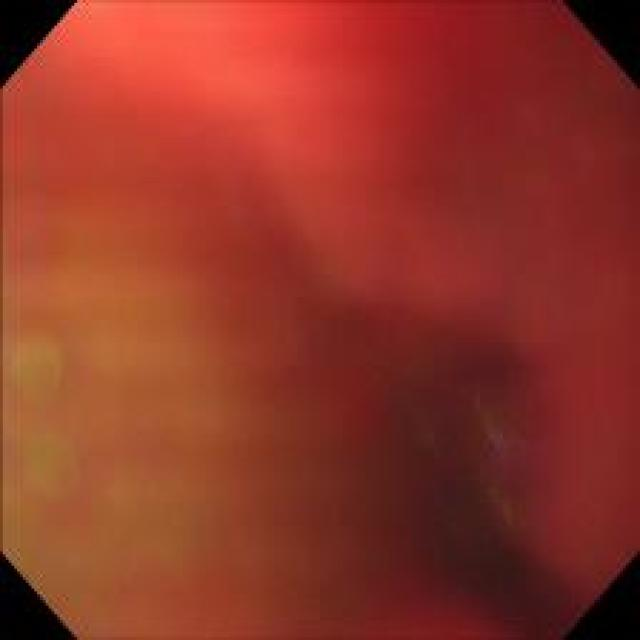color misalignment: (18, 20, 626, 629)
specularity: (5, 1, 396, 11)
